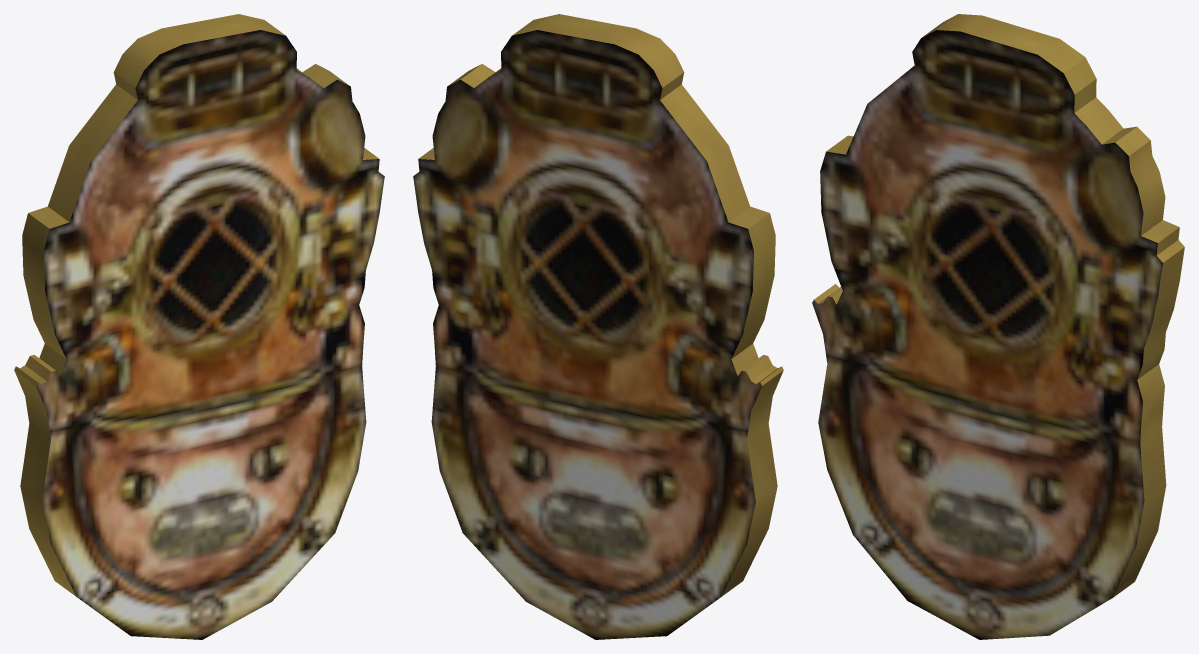
File: invulnerable .fbx
3 renders of one model, left to right at view 1: azimuth 30°, elevation 25°; view 2: azimuth 150°, elevation 25°; view 3: azimuth 330°, elevation 25°, orthographic.
Visible parts, largest first — view 1: polySurface1; view 2: polySurface1; view 3: polySurface1.
Part boxes in pixels (left/top/right/bottom): polySurface1: left=14, top=14, right=384, bottom=639; polySurface1: left=413, top=14, right=783, bottom=639; polySurface1: left=812, top=14, right=1184, bottom=639.
Bounding box in the file's own units: 2.74 × 4.51 × 0.2961.
1 material, 1 textured.
